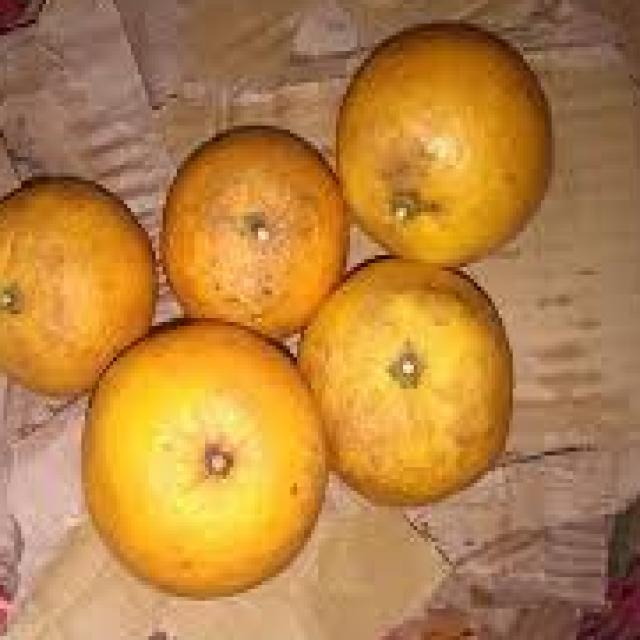inorganic: (10, 19, 565, 629)
